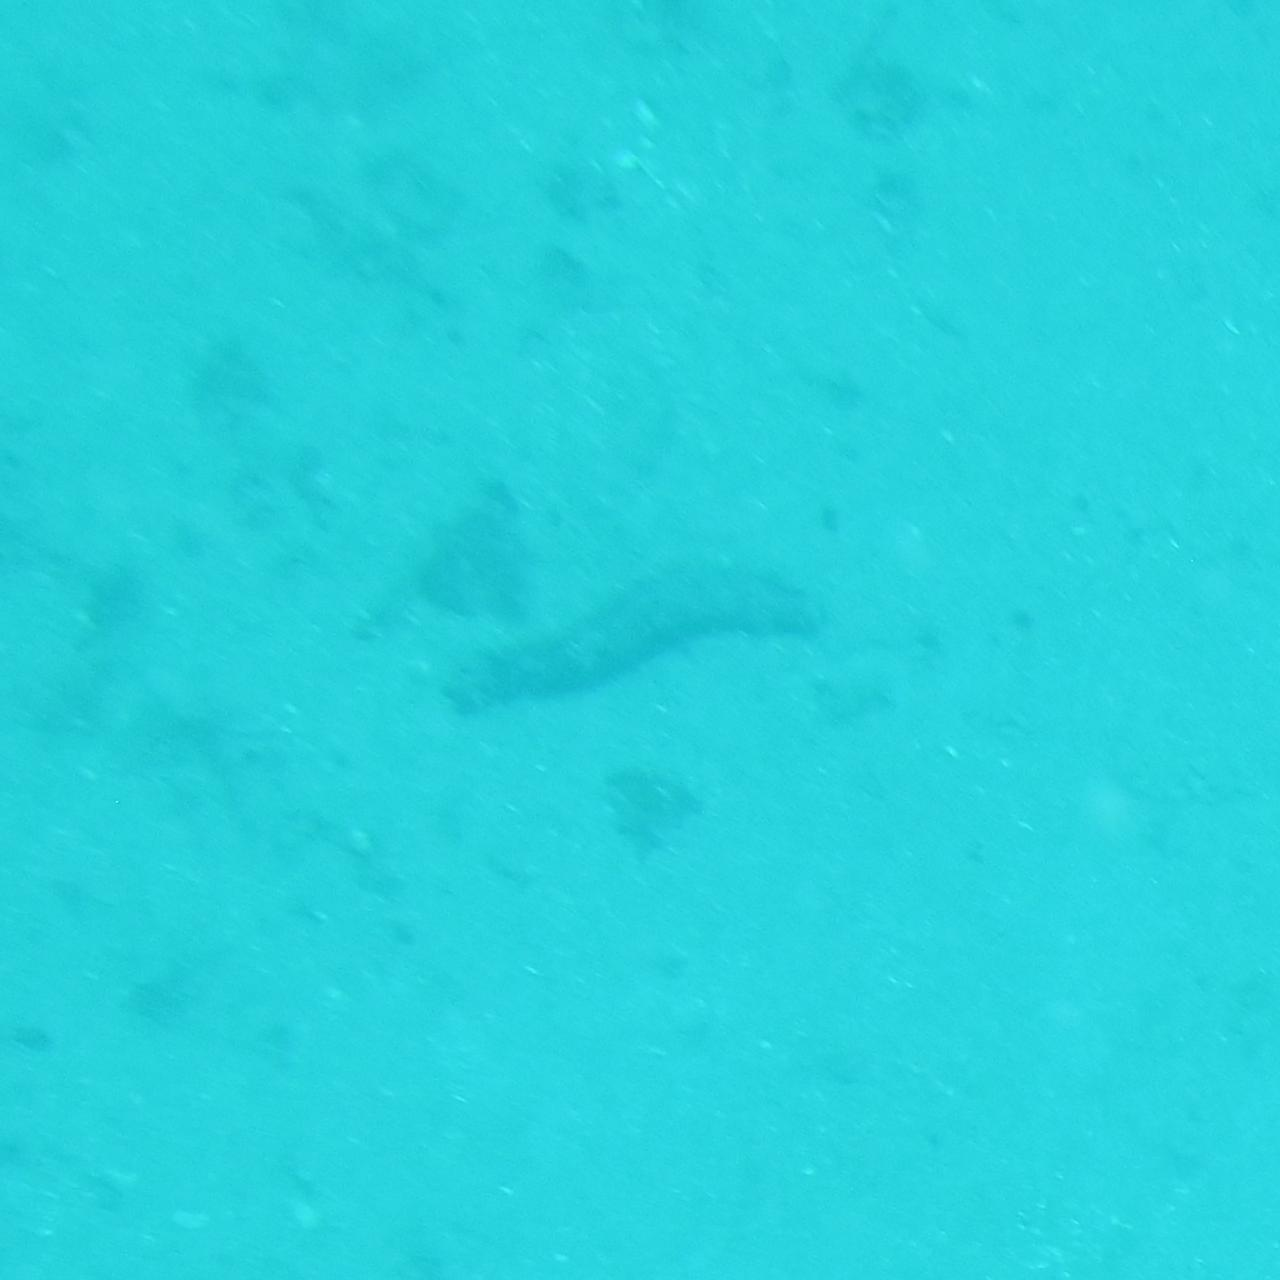Holothuria tubulosa: (449, 548, 831, 732)
